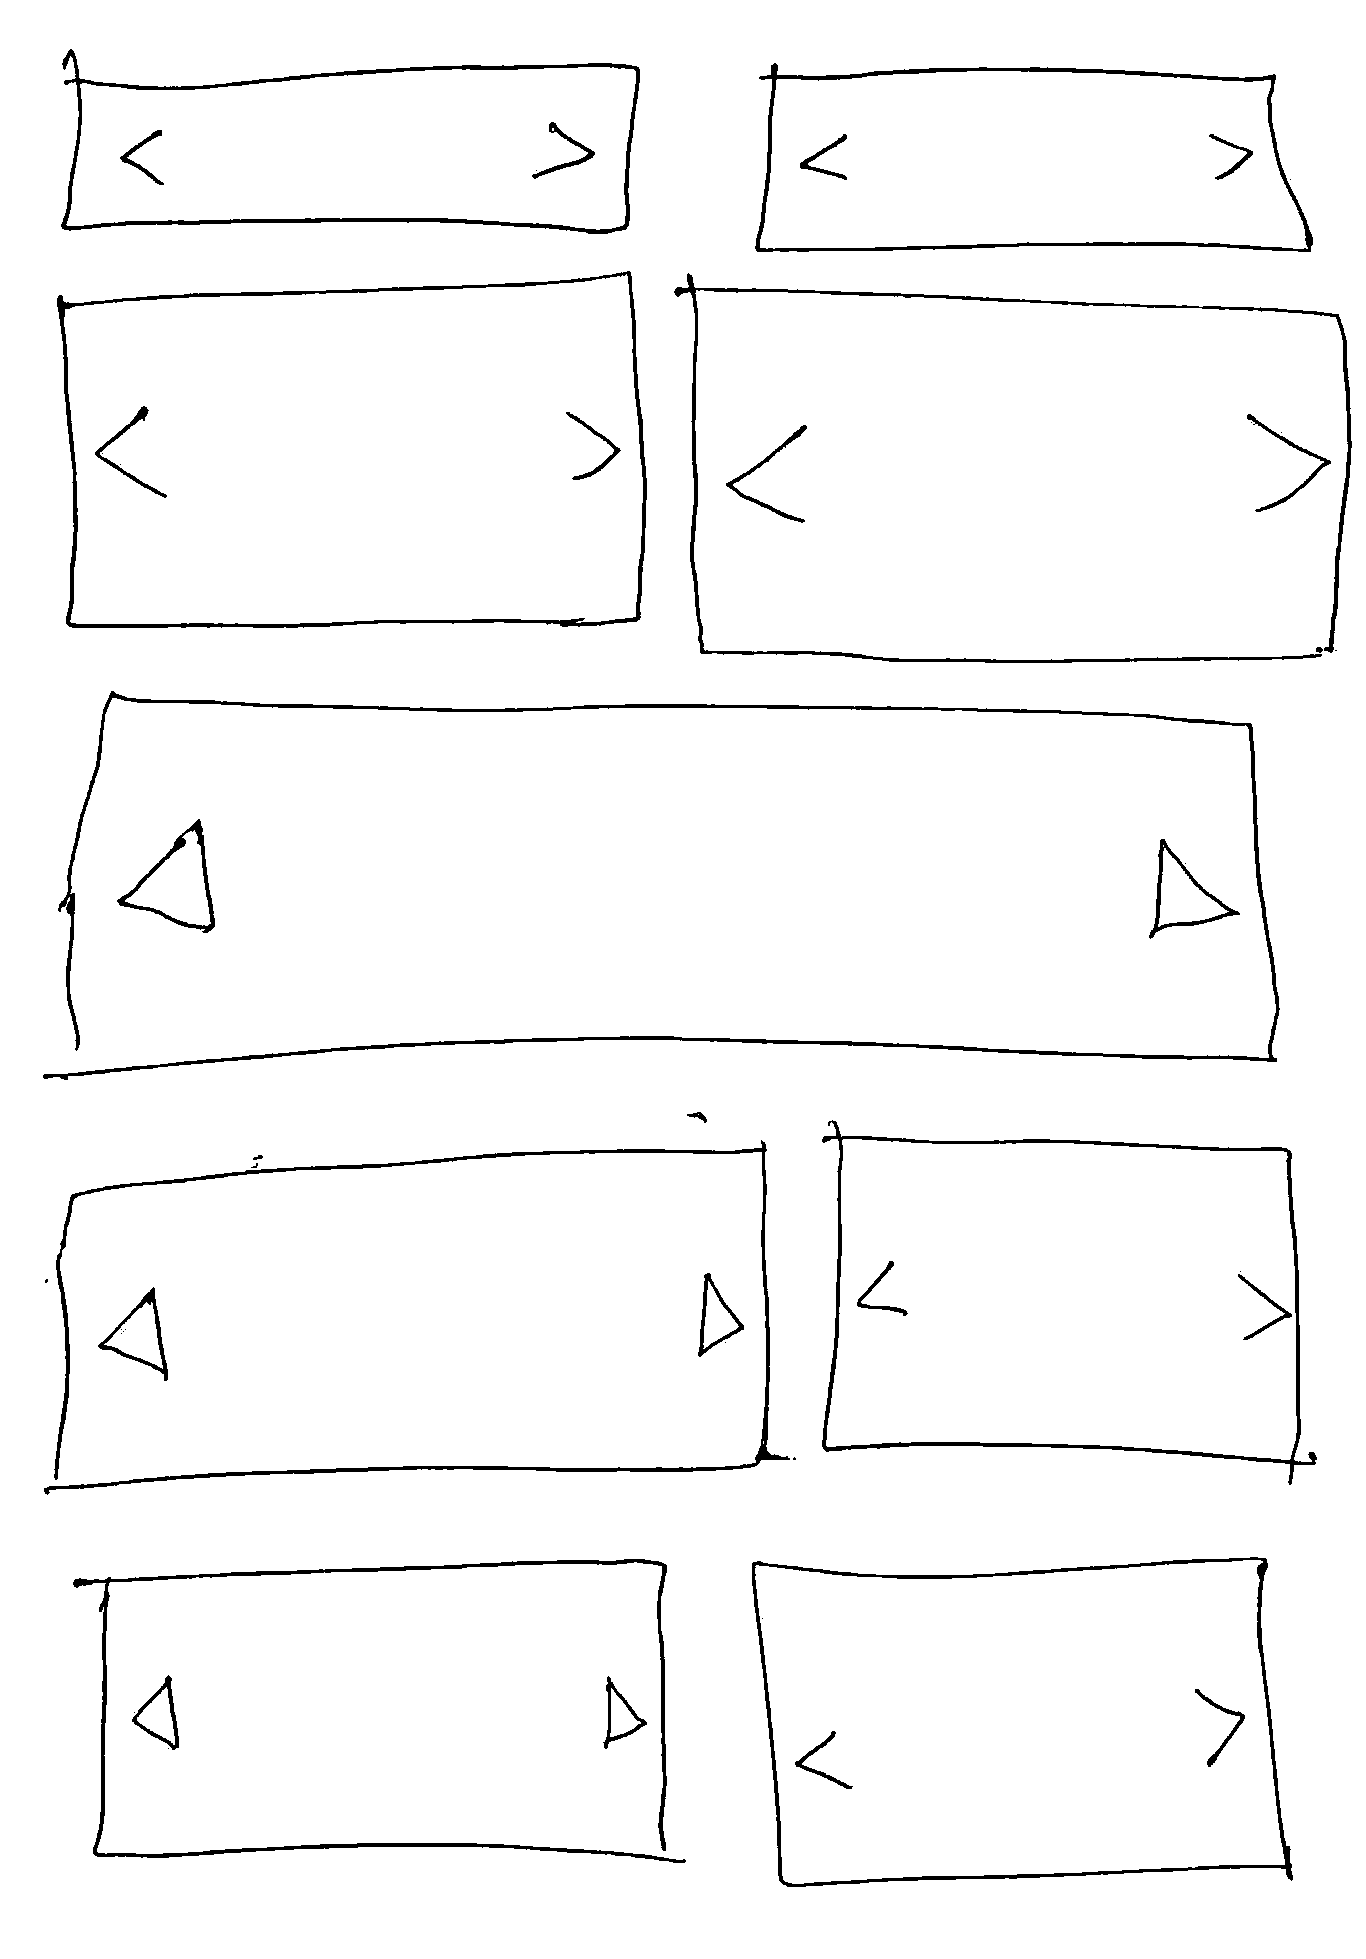Carousel: (45, 692, 1280, 1079), (676, 274, 1351, 664), (45, 1136, 778, 1495), (57, 271, 647, 631), (73, 1559, 687, 1864), (821, 1122, 1317, 1484), (751, 1557, 1293, 1888), (62, 51, 640, 234), (756, 64, 1312, 252)
